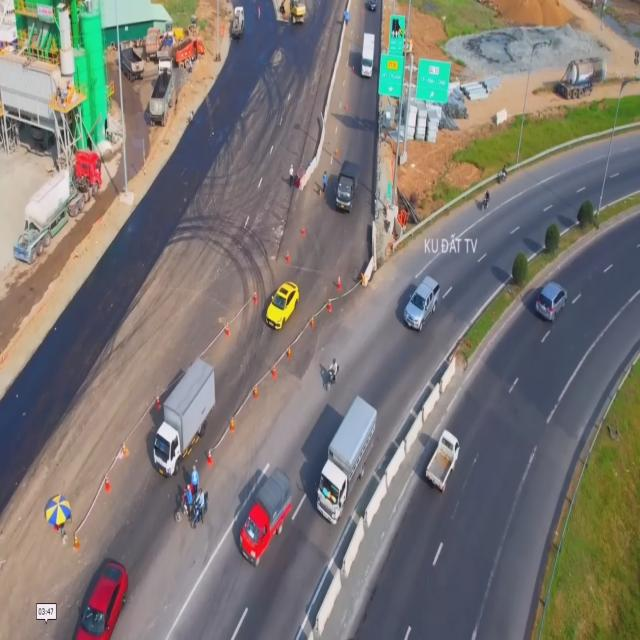car: (75, 556, 130, 640), (403, 275, 441, 335), (264, 278, 300, 329), (534, 277, 567, 330)
motorbike: (171, 499, 197, 536), (194, 493, 212, 532), (327, 355, 339, 389)
truck: (314, 391, 378, 529), (153, 360, 216, 480), (240, 470, 296, 570), (424, 422, 461, 500), (334, 156, 359, 216), (360, 30, 375, 79)
